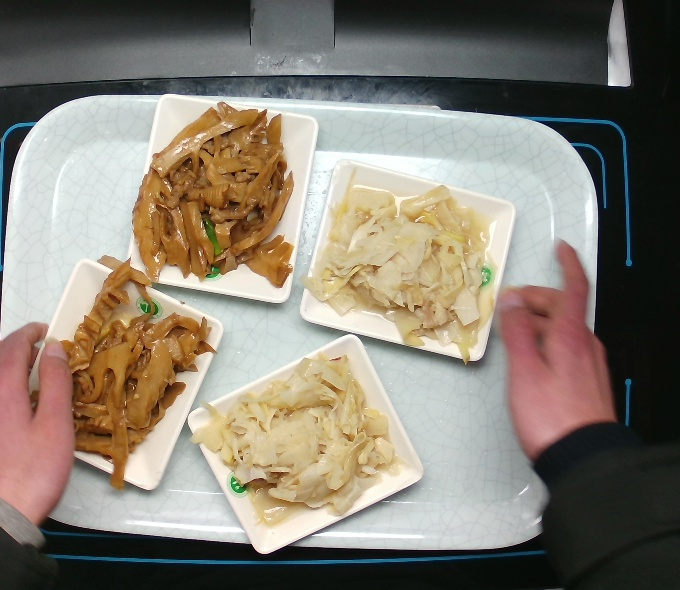wcq-LuSun: (199, 345, 404, 520), (314, 171, 499, 354)
wcq-SunGan: (126, 95, 311, 298), (62, 261, 214, 484)
